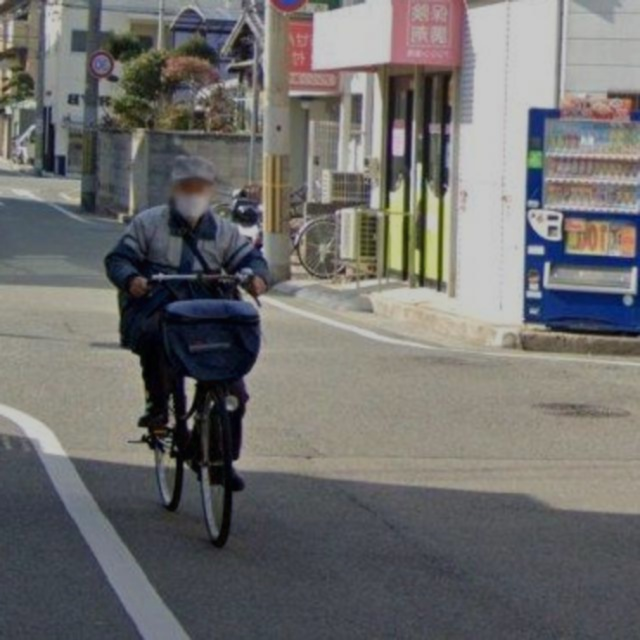bicycle: (133, 245, 280, 578)
